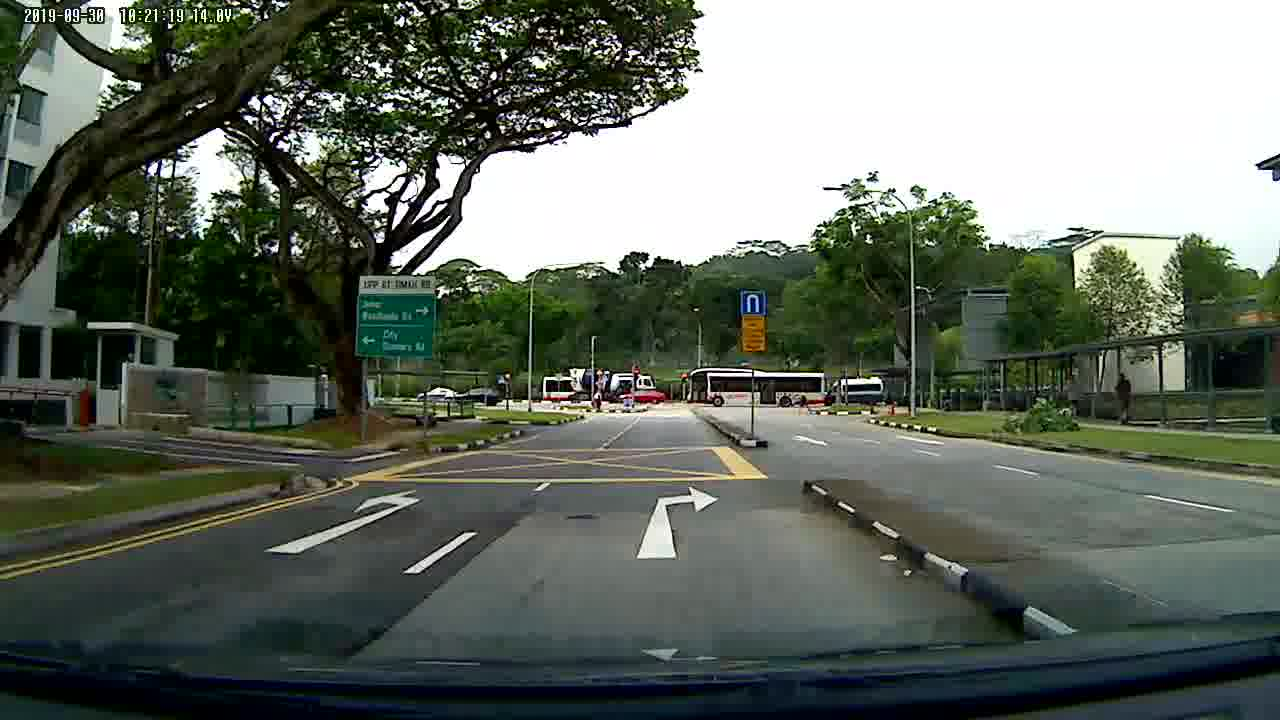bus: (678, 365, 827, 416)
